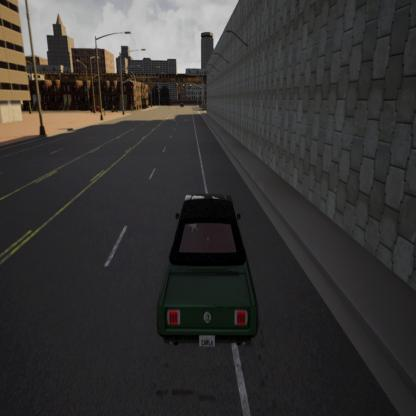Cars: (143, 180, 261, 363)
